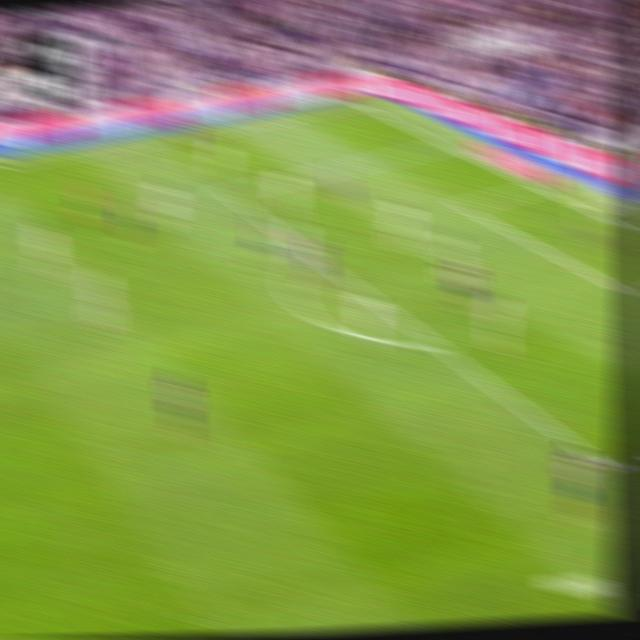bigarea_bottom_inner: (590, 448, 619, 481)
bigarea_top_inner: (213, 180, 238, 202)
bigarea_top_outter: (432, 134, 456, 152)
bottom_arc_area_intersection: (423, 331, 451, 357)
corner: (343, 93, 367, 108)
smallarea_top_inner: (449, 193, 475, 216)
top_arc_area_intersection: (299, 245, 320, 262)
